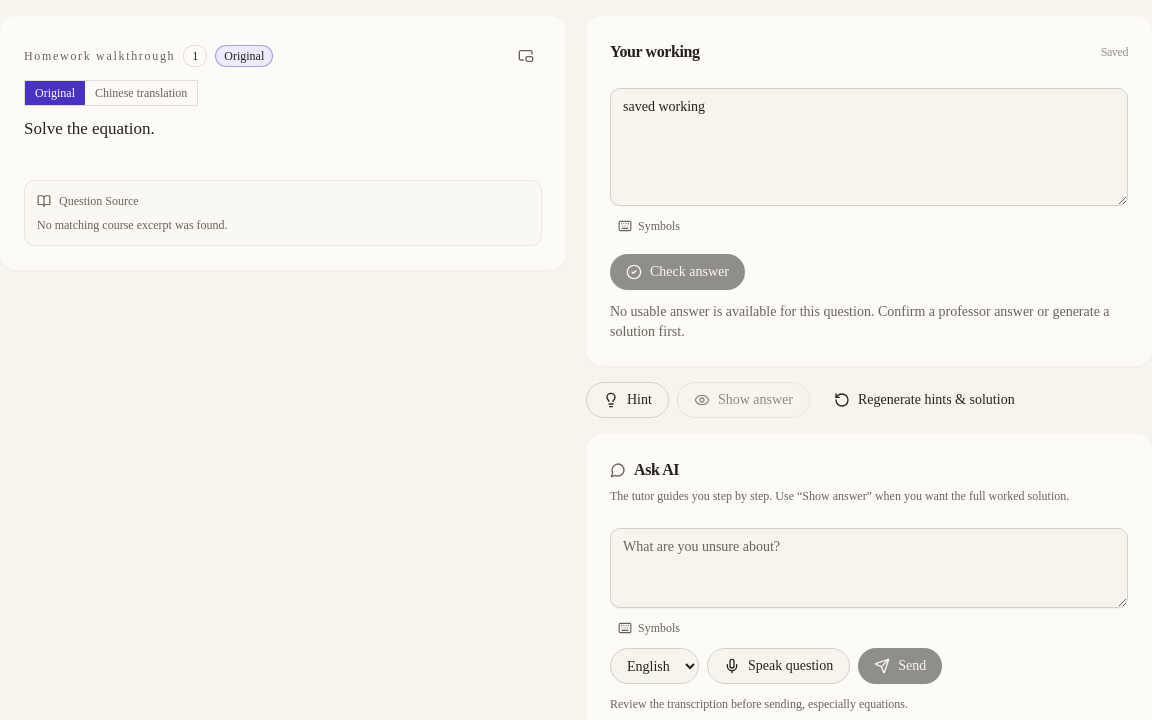
it: homework speech input › explains permission failure and remains usable for typing
Click the button "Speak question": (779, 666) [707,648,850,684]
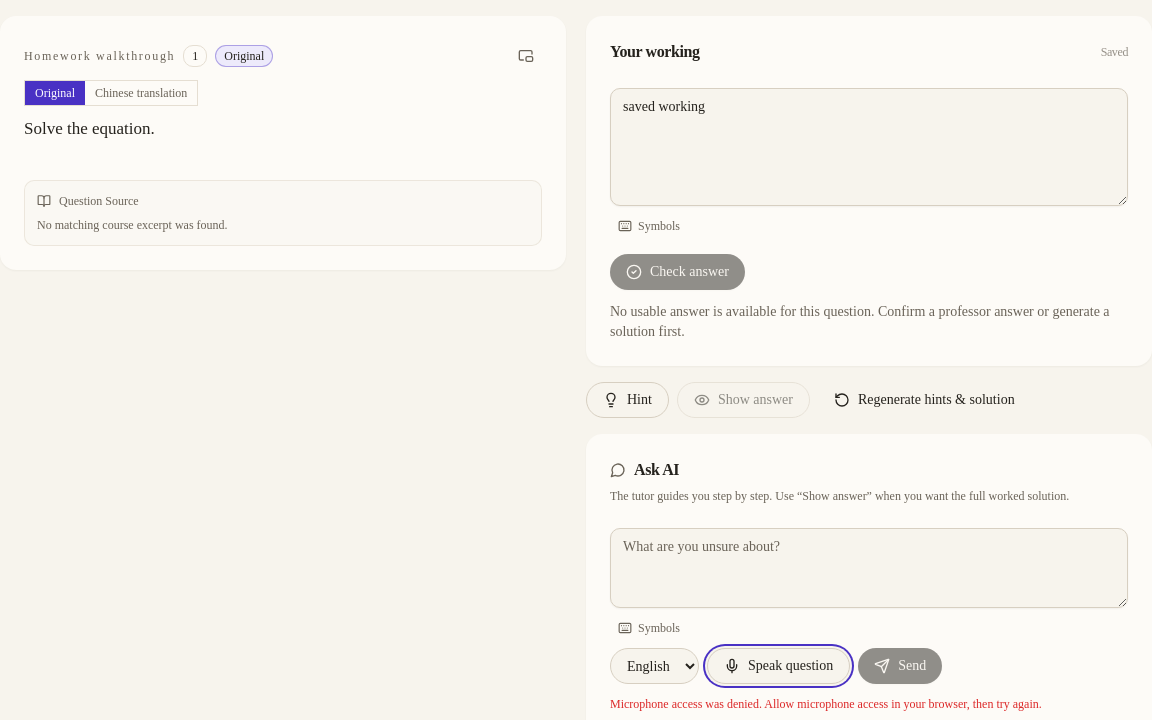
Expected: the message shows "Microphone access was denied", [610,697,1042,711]
In the text box named "Ask about this question": (869, 568) [610,528,1128,608], type "I can still type"
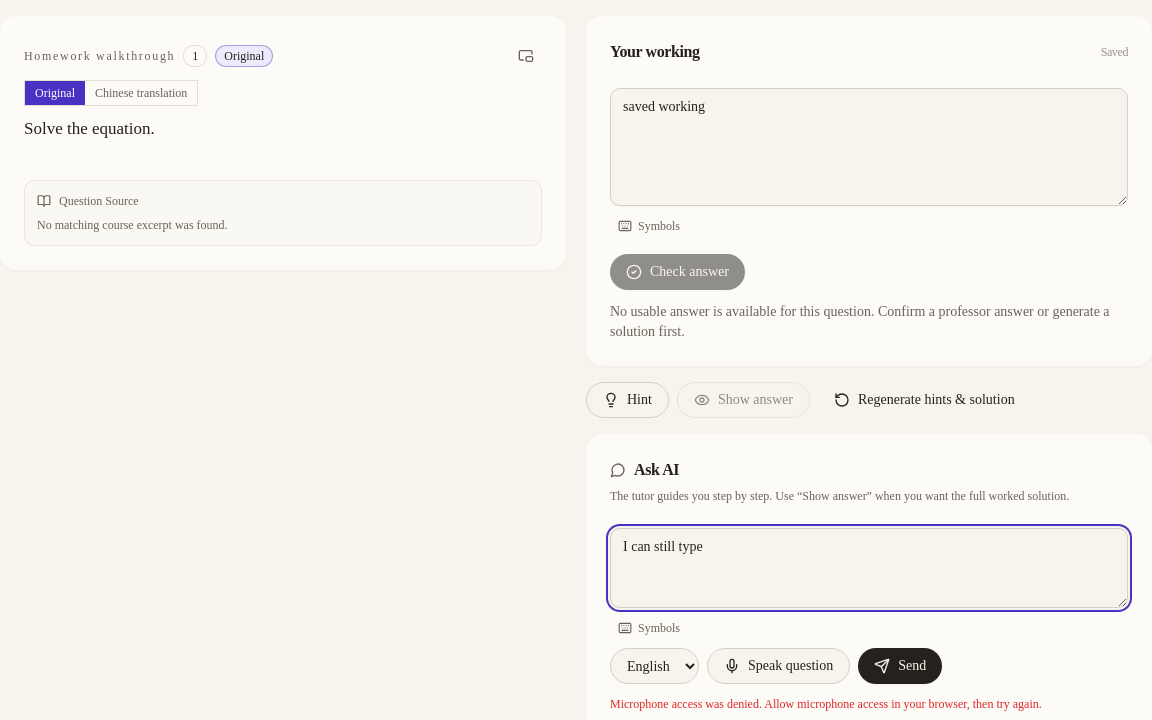
Expected: the button "Send" is enabled, [858,648,942,684]
